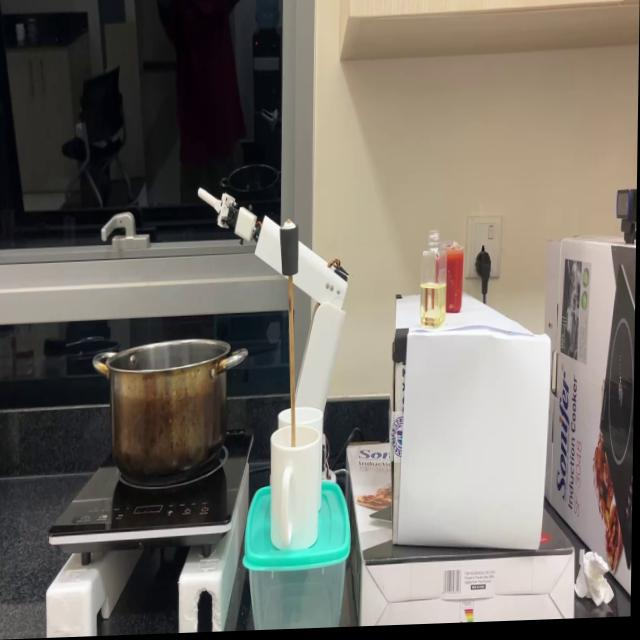blended_tomatoes_pepper: (447, 253, 468, 316)
cooking_pot: (96, 344, 251, 475)
spatula: (280, 239, 309, 454), (420, 281, 448, 332)
